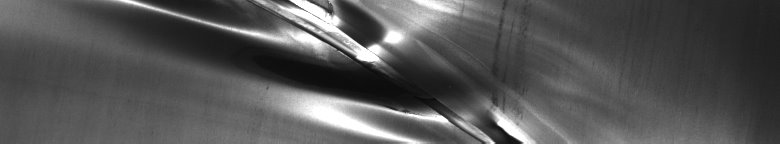ke: (121, 4, 512, 136)
